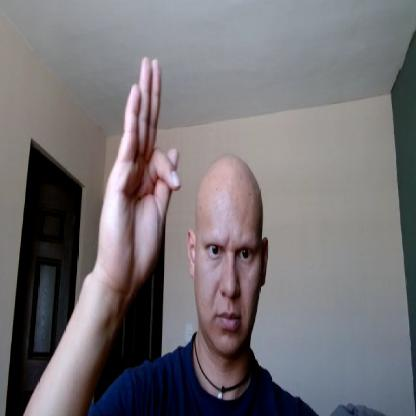F: (98, 55, 181, 290)
